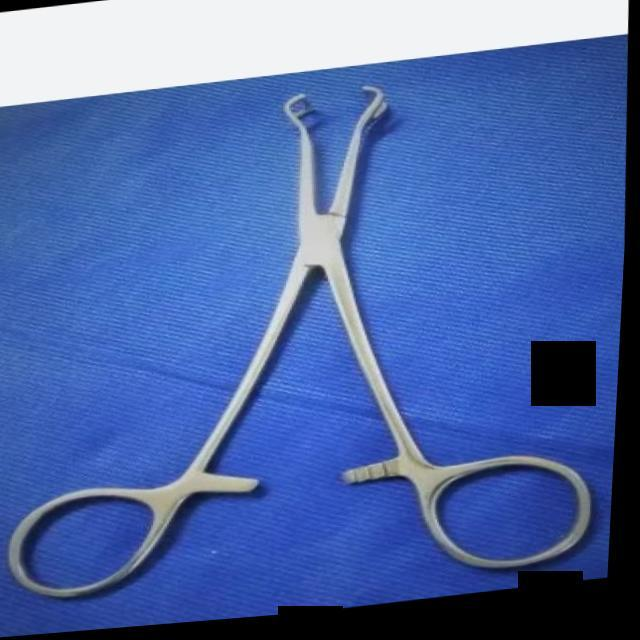Babcock Forceps: (0, 66, 627, 630)
